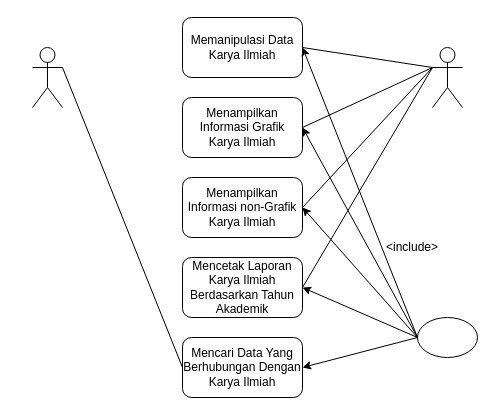
This 503x415 diagram has some shape labels left out. Here are the shapes that lost their labels. From the top down, the box of each, then its label:
(32, 46, 62, 108): Mahasiswa
(432, 46, 462, 108): Program Studi
(416, 316, 478, 358): login
